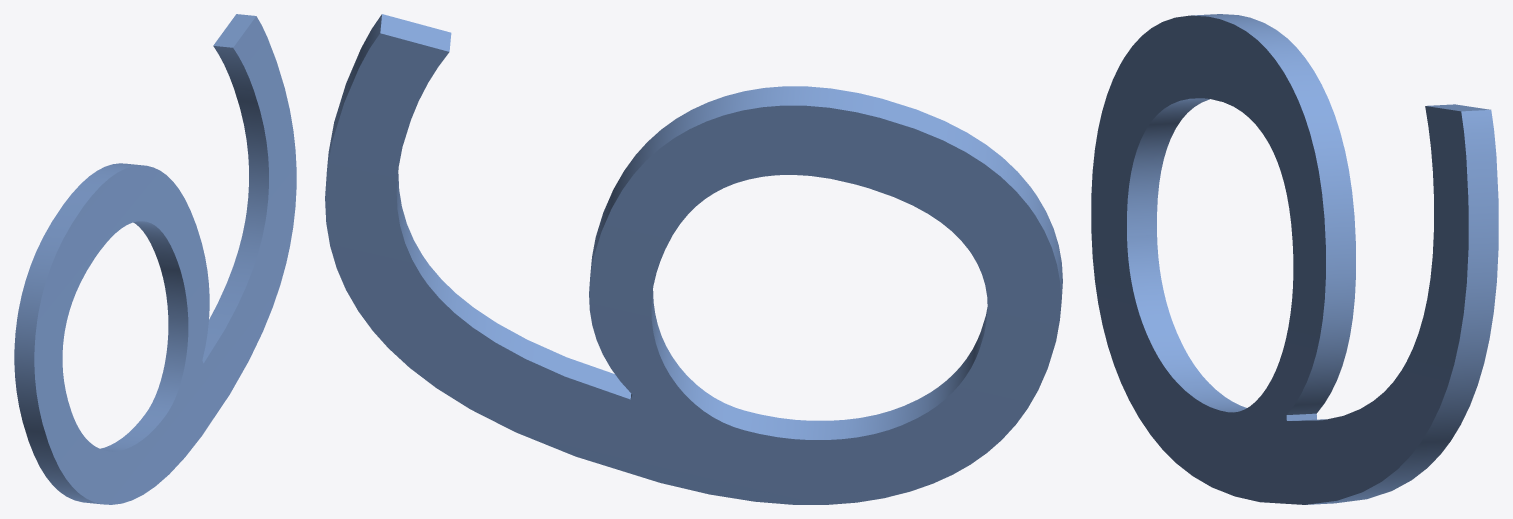
Rendered from New_Number_6.gltf.
3 views of the same model, side by side, from view 1: azimuth 30°, elevation 25°; view 2: azimuth 150°, elevation 25°; view 3: azimuth 270°, elevation 25° (orthographic). The views are drawn at different scales.
Parts seen in each view (by area): view 1: Part 546; view 2: Part 546; view 3: Part 546.
Boxes of the visible parts, bbox=[...] form: Part 546: bbox=[14, 14, 296, 504]; Part 546: bbox=[325, 14, 1062, 504]; Part 546: bbox=[1091, 14, 1498, 504].
Size of the model in its own units: 0.00483 by 0.00414 by 0.00303.
